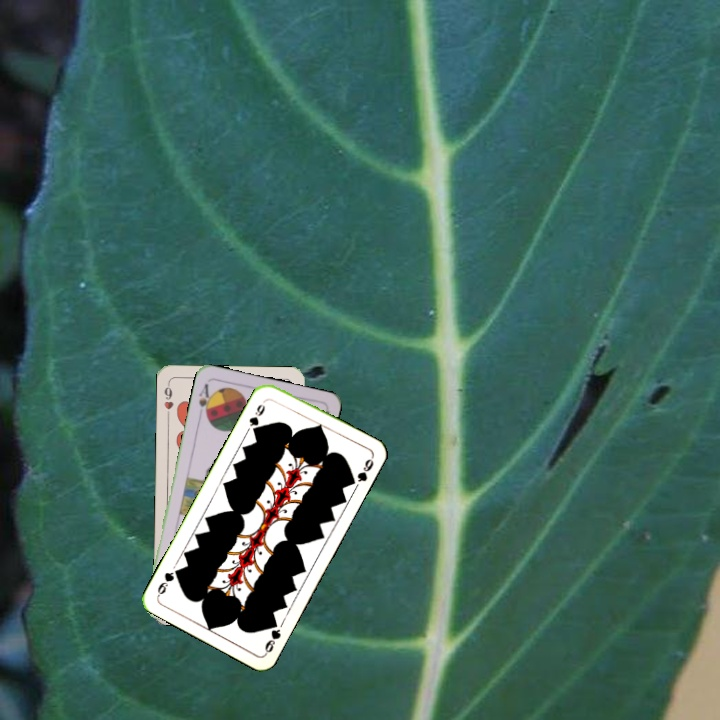G9: (261, 616, 283, 657), (245, 400, 268, 435)
H9: (160, 380, 176, 420)
SA: (195, 379, 215, 420)
